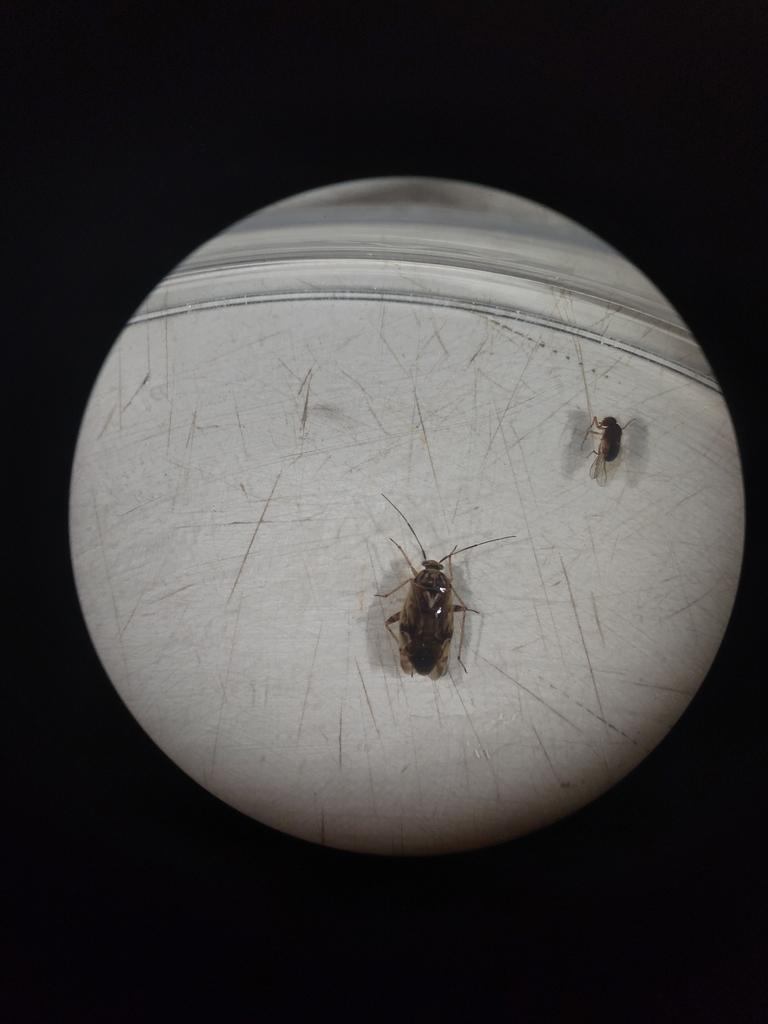plant_bugs: (344, 471, 530, 717)
